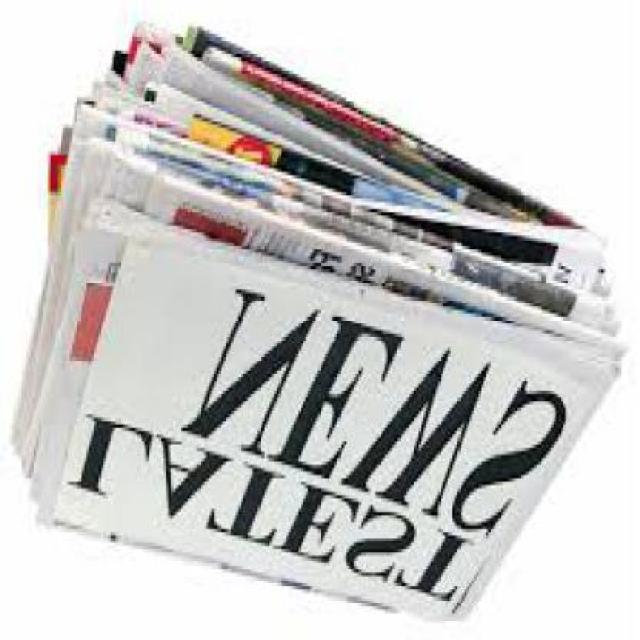PAPER: (32, 202, 616, 623), (10, 172, 613, 474), (45, 135, 578, 259), (91, 37, 349, 101), (72, 111, 383, 138)
